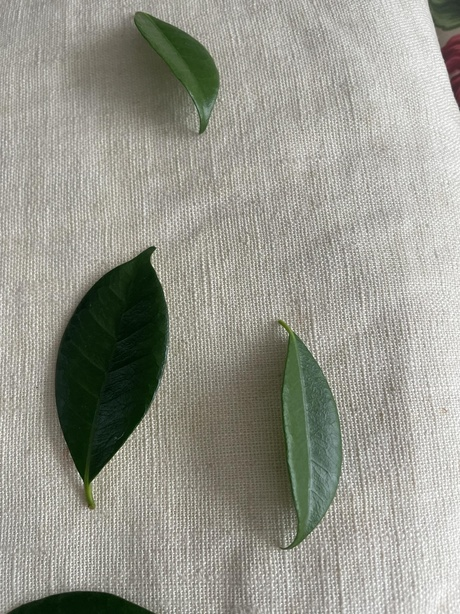leaf: (47, 228, 178, 507), (266, 306, 345, 557), (129, 2, 230, 139)
